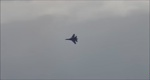maybay_muctieu: (64, 33, 80, 45)
